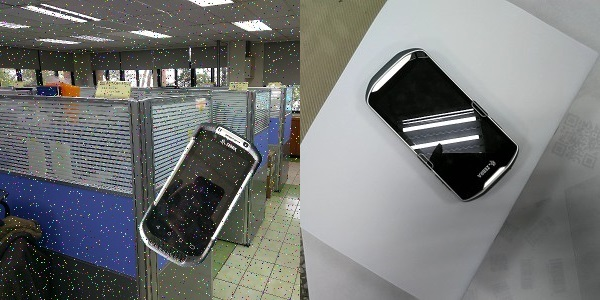falcon: (127, 111, 271, 279)
ironman: (361, 44, 526, 209)
